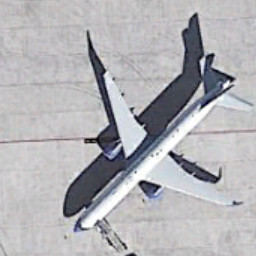Airplane: (51, 34, 256, 250)
